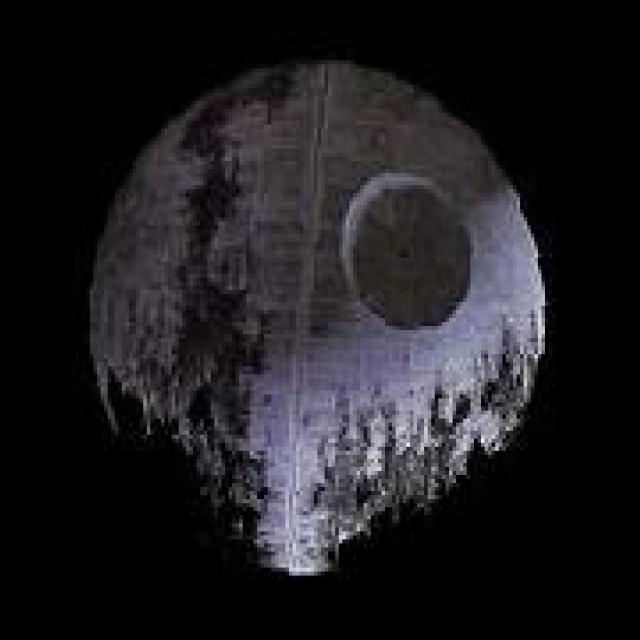Death Star: (82, 48, 554, 584)
